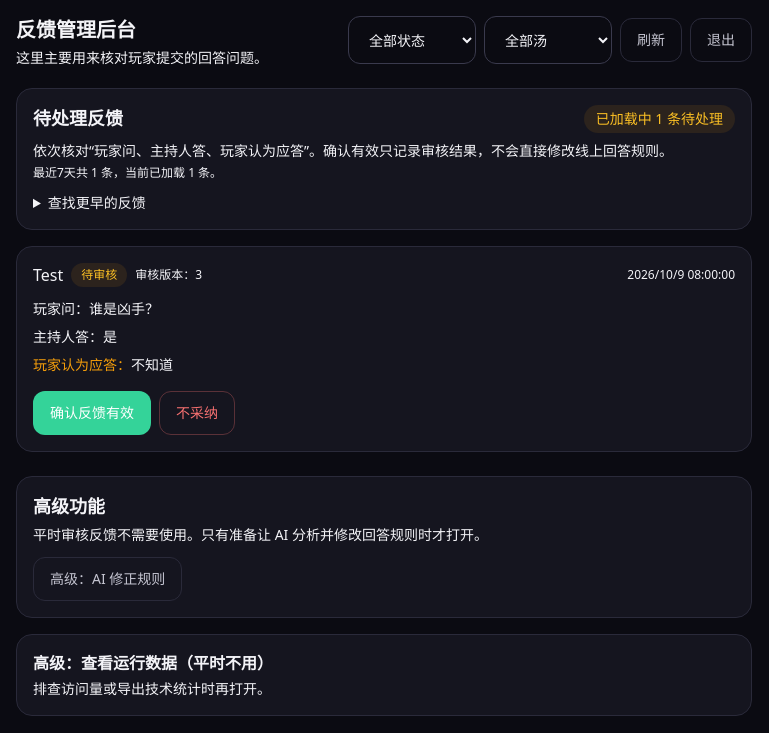
Test: review sends actual rowVersion and shows the verified next server version
Click the button "确认反馈有效": coordinates (92, 413) [33,391,151,435]
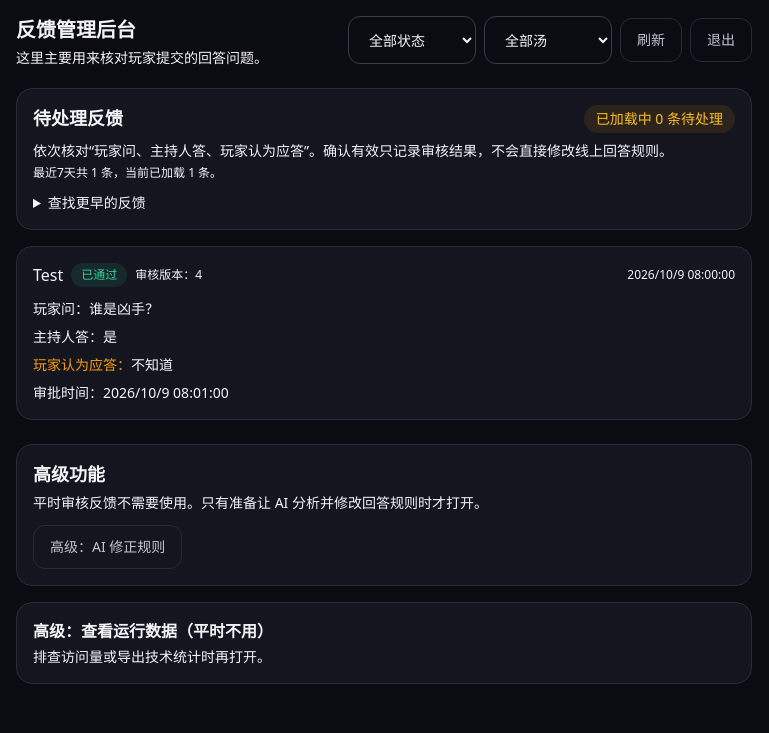
Result: the text "审核版本：4" is shown at [135,267,202,283]
Result: the button "确认反馈有效" is gone
